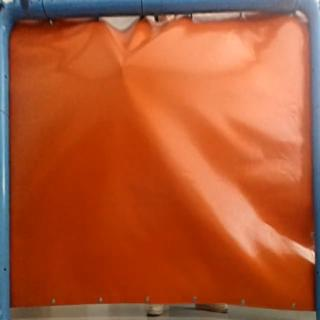Hit-hRxx: (115, 59, 127, 72)
